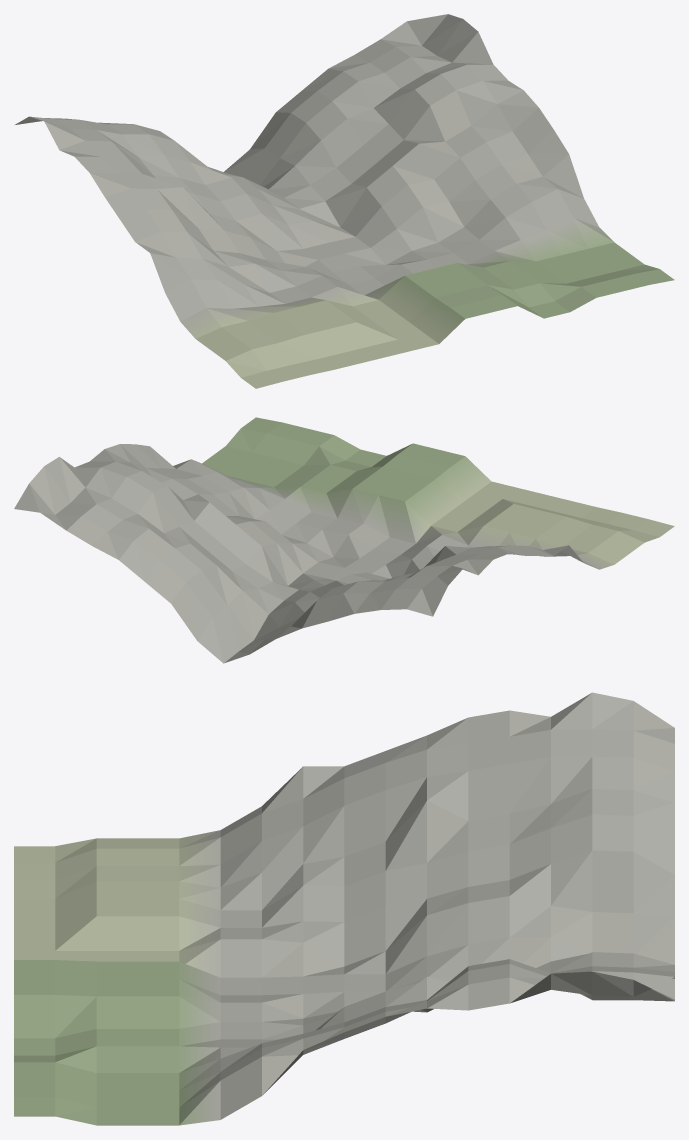
3 views of the same model, one above another, from view 1: azimuth 30°, elevation 25°; view 2: azimuth 150°, elevation 25°; view 3: azimuth 270°, elevation 25° (orthographic). The views are drawn at different scales.
Size of the model in its own units: 32 by 9.06 by 32.
